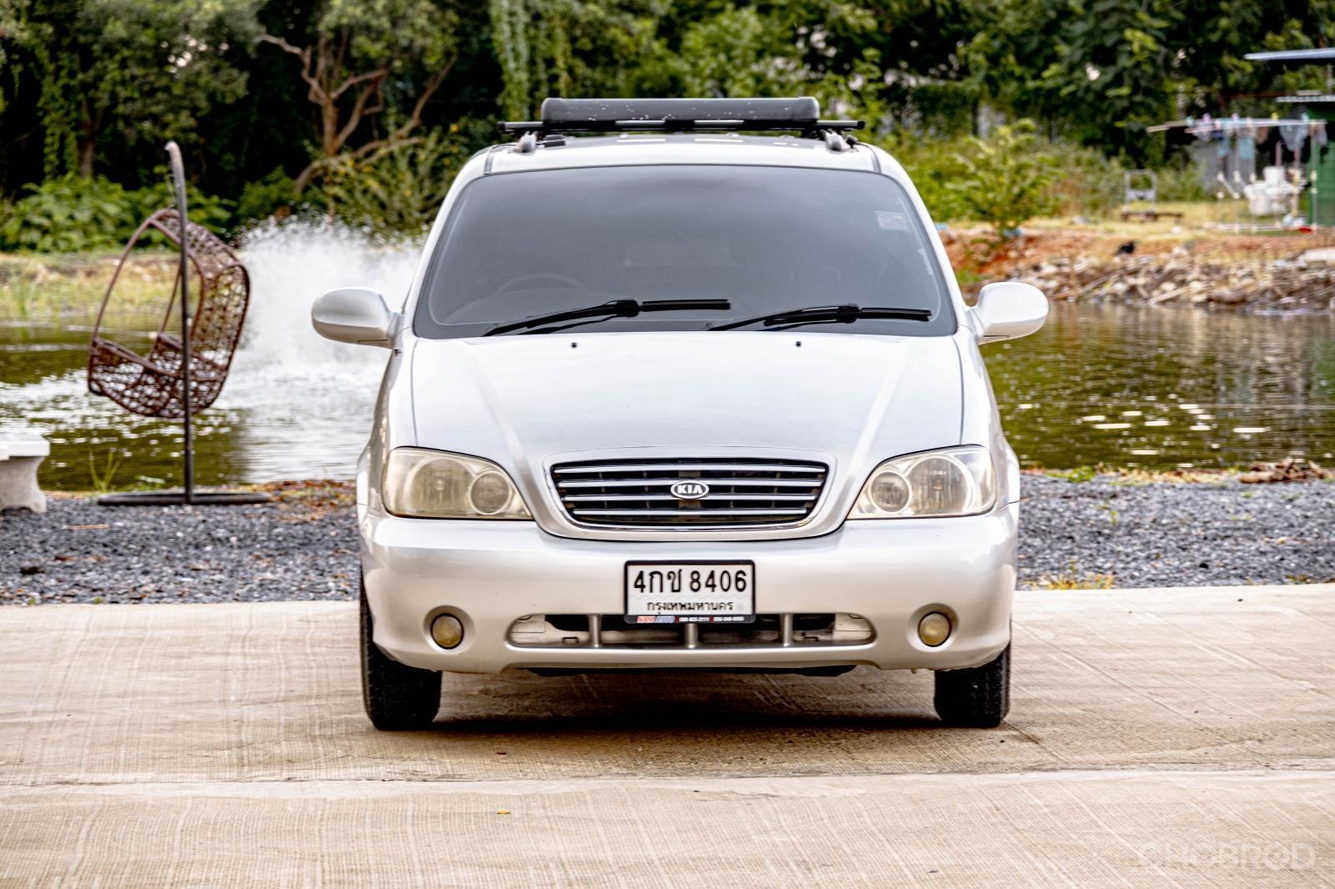license-plate: (621, 560, 756, 629)
